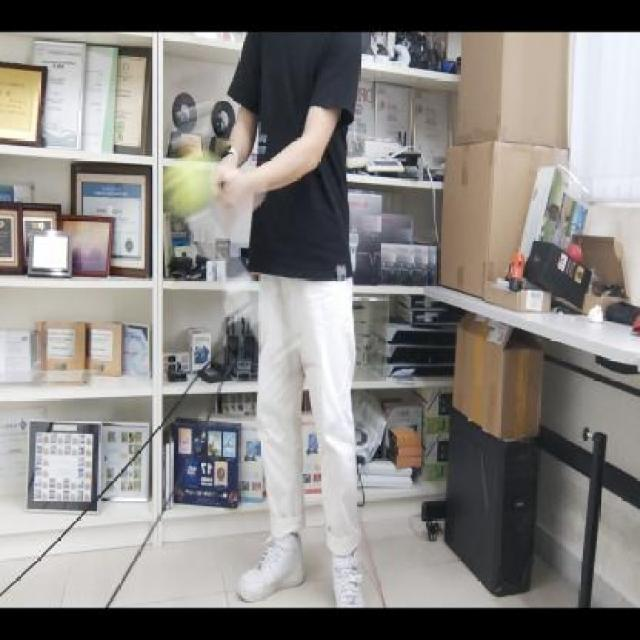baseball: (162, 146, 220, 214)
